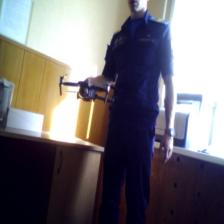drone: (53, 73, 124, 111)
